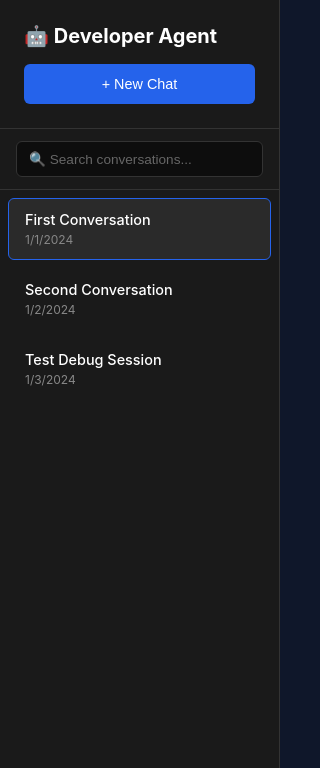
Test: Sidebar › Search functionality › should show "No matches found" for empty search results
Type "NonexistentConversation" into the field with placeholder "🔍 Search conversations..." at (140, 159), box [16,141,263,177]
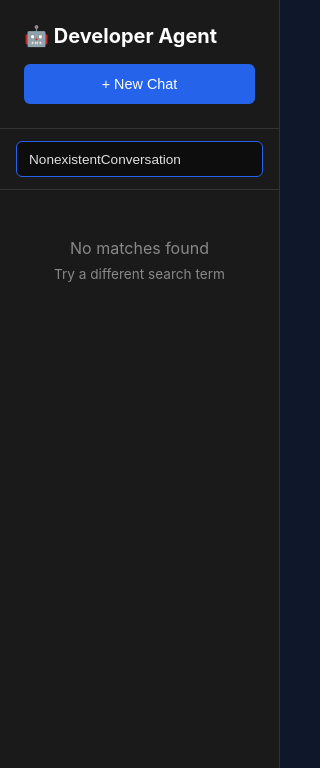
Now the text "No matches found" is shown, box [70,238,209,258]
Now the text "Try a different search term" is shown, box [54,266,225,282]
